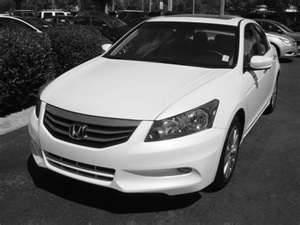car: (30, 14, 282, 199)
